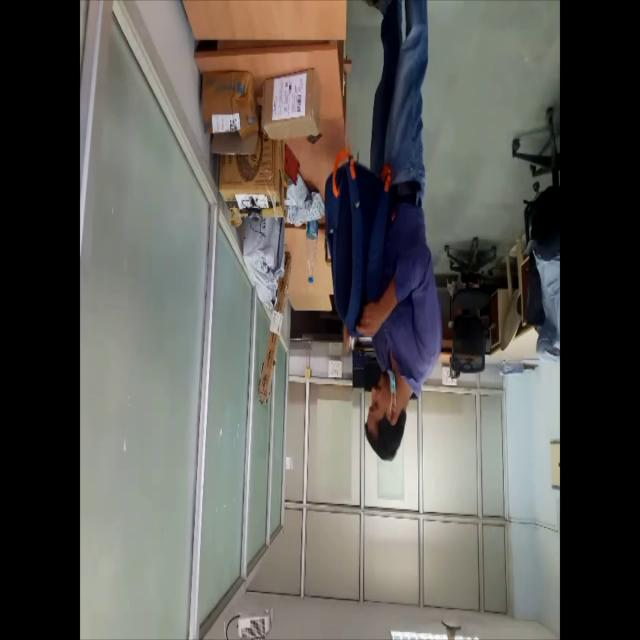shoplifting: (312, 0, 447, 478)
